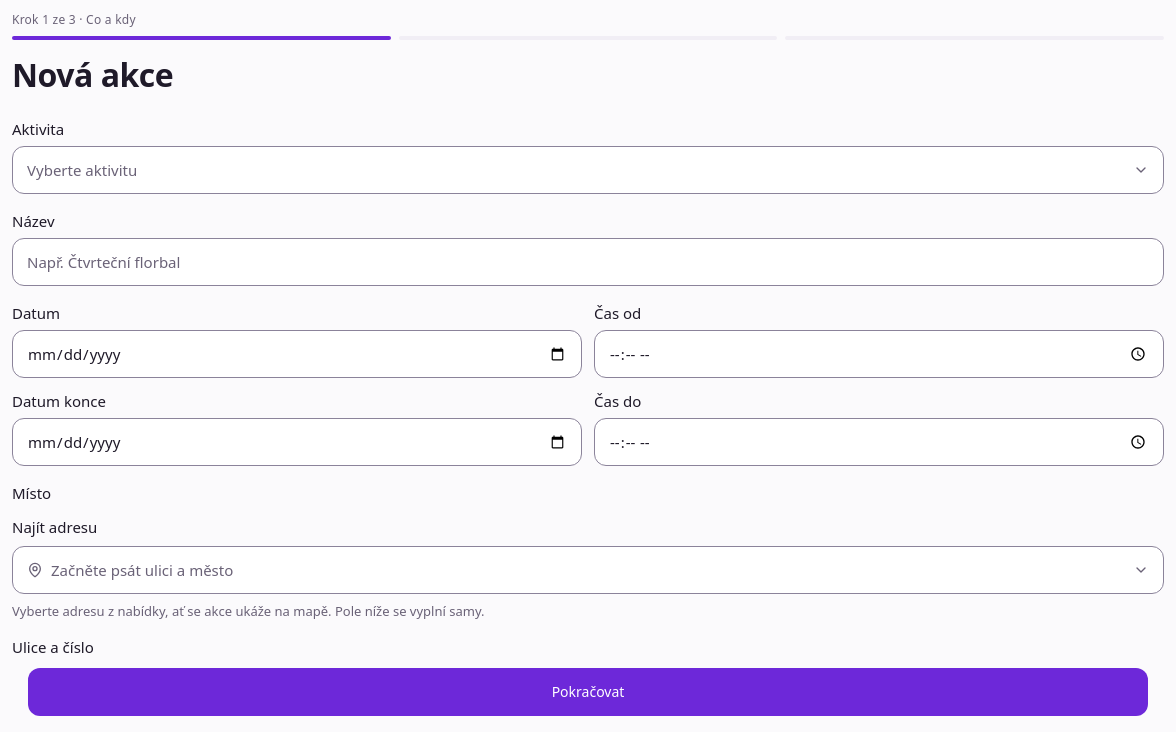
Test: EventForm on a phone › tells which required fields of the first step are missing
The image size is (1176, 732).
Click the button "Pokračovat".
click(588, 692)  # box [28, 668, 1148, 716]
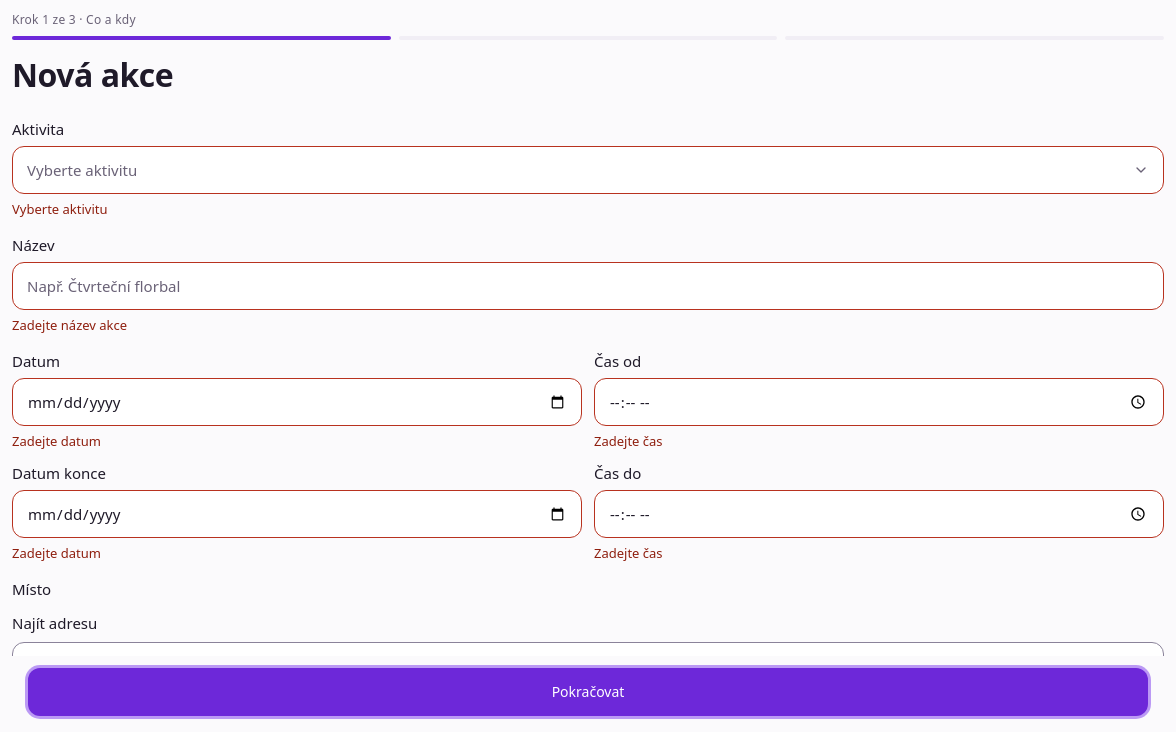
Now the text "Zadejte název akce" is shown, box [12, 316, 127, 334]
Now the 2nd text "Vyberte aktivitu" is shown, box [12, 200, 108, 218]
Now the text "Zadejte datum" is shown 2 times, box [12, 432, 101, 450]; [12, 544, 101, 562]
